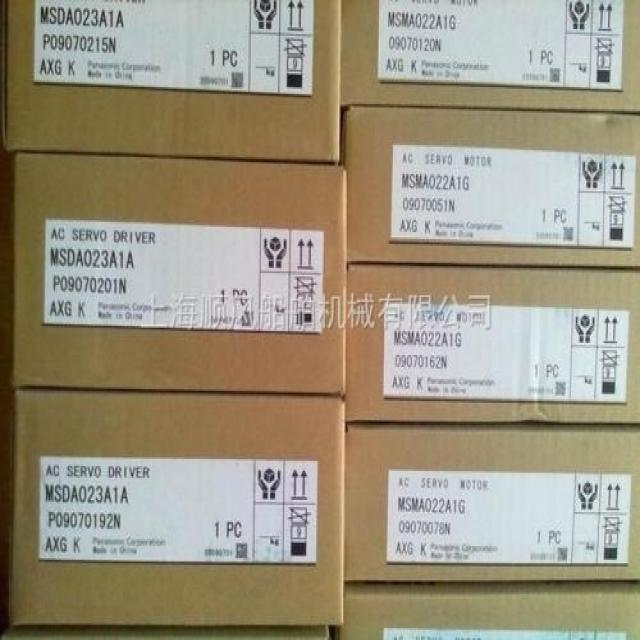box: (9, 390, 345, 626), (14, 156, 346, 393), (3, 1, 341, 162), (341, 425, 637, 586), (345, 108, 639, 269), (345, 265, 638, 423), (341, 1, 639, 114), (334, 583, 638, 638)
